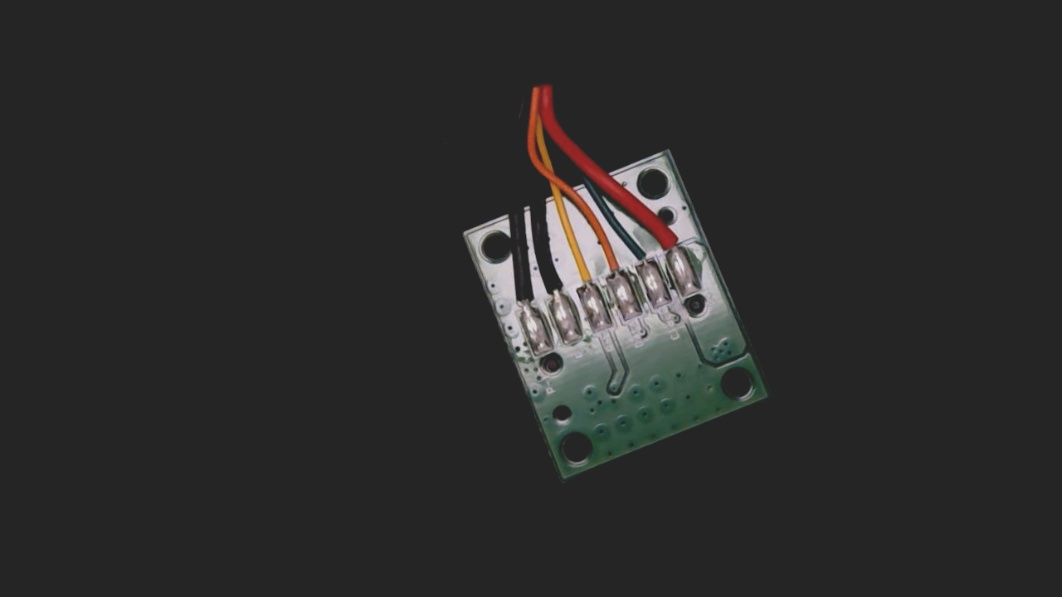Black: (529, 250, 576, 316)
Black1: (500, 269, 545, 331)
Green: (623, 228, 663, 283)
Orange: (589, 229, 632, 291)
Red: (647, 206, 693, 270)
Yellow: (557, 238, 604, 305)
